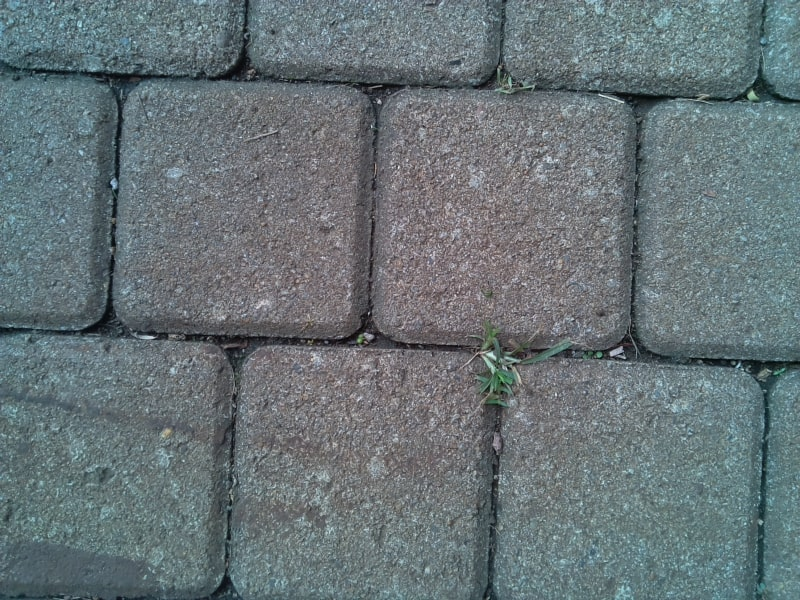Weed: (474, 331, 531, 398), (495, 65, 535, 95)
